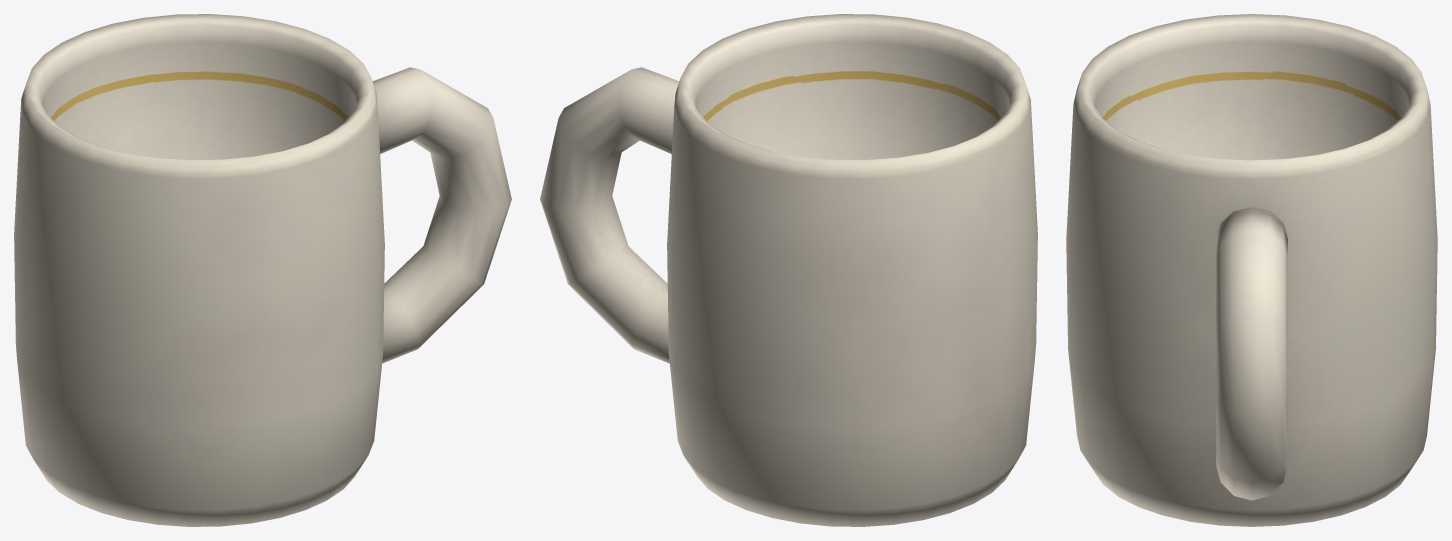
The model's file is mug_corn_b2.glb.
The picture shows the model from 3 angles, left to right: view 1: azimuth 30°, elevation 25°; view 2: azimuth 150°, elevation 25°; view 3: azimuth 270°, elevation 25°; orthographic projection.
Parts seen in each view (by area): view 1: prop_mug_corn_b2_felt; view 2: prop_mug_corn_b2_felt; view 3: prop_mug_corn_b2_felt.
Part boxes in pixels (bbox=[...]): prop_mug_corn_b2_felt: bbox=[14, 14, 511, 526]; prop_mug_corn_b2_felt: bbox=[540, 14, 1037, 526]; prop_mug_corn_b2_felt: bbox=[1066, 14, 1437, 526].
Bounding box in the file's own units: 0.1907 × 0.1447 × 0.131.
Materials: 1 (1 with a texture image).
